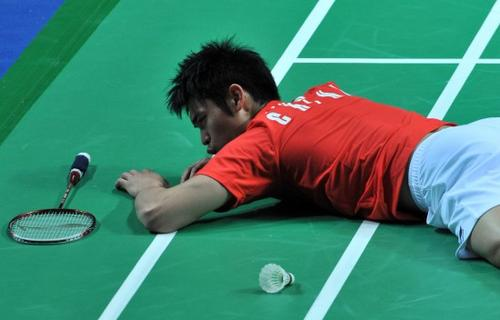fall: (117, 11, 489, 273)
